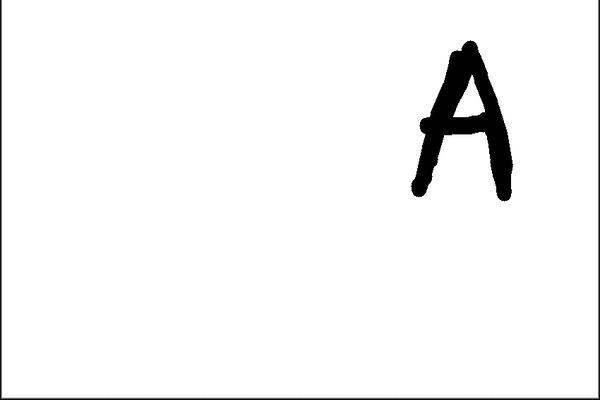A: (395, 31, 520, 204)
